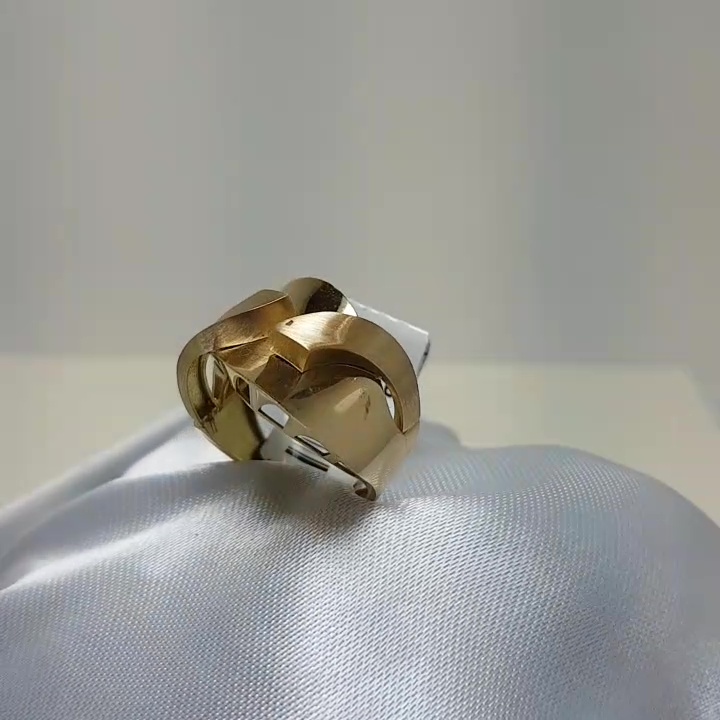Ring 4: (161, 266, 426, 527)
